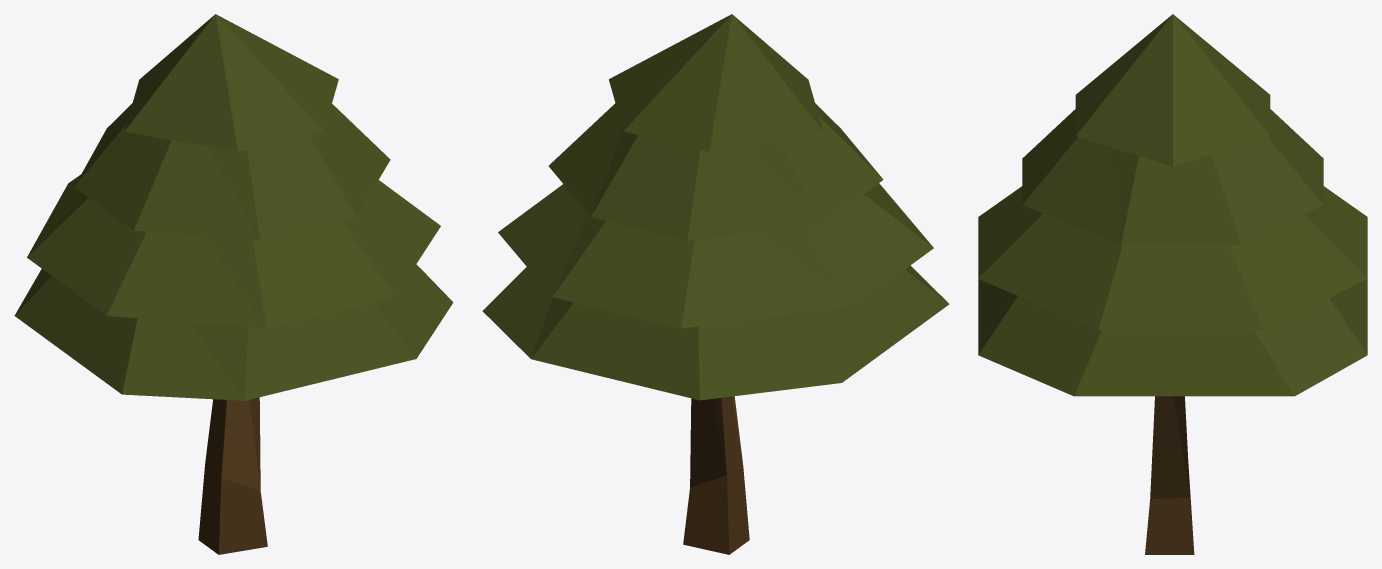
File: tree.obj
The picture shows the model from 3 angles, left to right: view 1: azimuth 30°, elevation 25°; view 2: azimuth 150°, elevation 25°; view 3: azimuth 270°, elevation 25°; orthographic projection.
Parts seen in each view (by area): view 1: Object Tree 2026-09-12_20-30-59; view 2: Object Tree 2026-09-12_20-30-59; view 3: Object Tree 2026-09-12_20-30-59.
Boxes of the visible parts, x1,y1,x2,y2 form: Object Tree 2026-09-12_20-30-59: (14, 14, 453, 554); Object Tree 2026-09-12_20-30-59: (482, 14, 949, 554); Object Tree 2026-09-12_20-30-59: (978, 14, 1367, 554).
Bounding box in the file's own units: 256 × 379 × 256.
